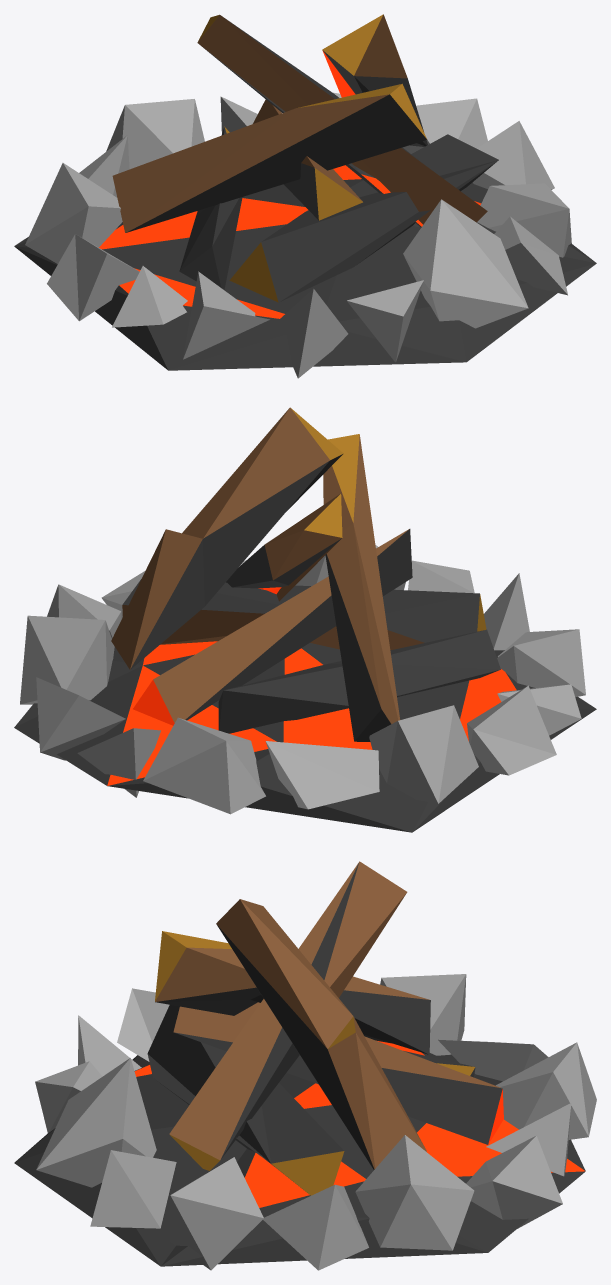
The model's file is Assets_Campfire.fbx.
3 views of the same model, one above another, from view 1: azimuth 30°, elevation 25°; view 2: azimuth 150°, elevation 25°; view 3: azimuth 270°, elevation 25° (orthographic). The views are drawn at different scales.
Visible parts, largest first — view 1: Village_Firepit01_LOD03; view 2: Village_Firepit01_LOD03; view 3: Village_Firepit01_LOD03.
Boxes of the visible parts, x1=… form: Village_Firepit01_LOD03: x1=14, y1=14, x2=596, y2=378; Village_Firepit01_LOD03: x1=14, y1=407, x2=596, y2=832; Village_Firepit01_LOD03: x1=14, y1=861, x2=596, y2=1270.
Bounding box in the file's own units: 244 × 239 × 130.
